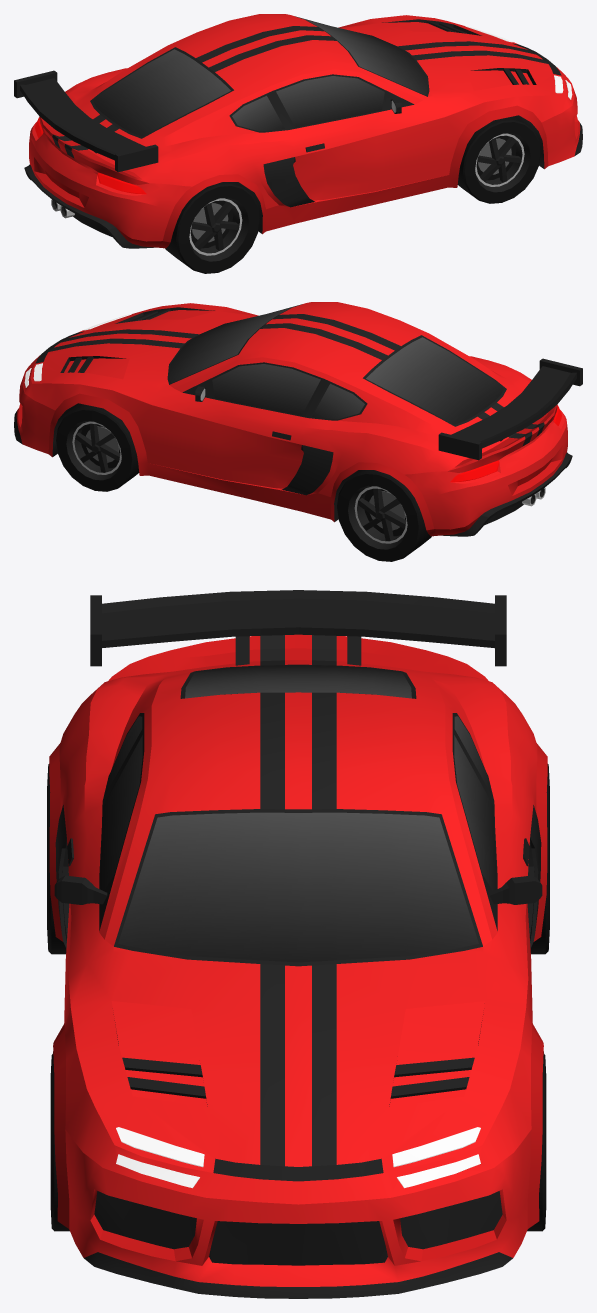
The model's file is Car_182.glb.
3 renders of one model, top to bottom at view 1: azimuth 30°, elevation 25°; view 2: azimuth 150°, elevation 25°; view 3: azimuth 270°, elevation 25°, orthographic. The views are drawn at different scales.
Visible parts, largest first — view 1: Car_182, wheel_3_Car_182_Wheel_2R, wheel_1_Car_182_Wheel_1R; view 2: Car_182, wheel_2_Car_182_Wheel_2L, wheel_0_Car_182_Wheel_1L; view 3: Car_182, wheel_0_Car_182_Wheel_1L, wheel_1_Car_182_Wheel_1R, wheel_3_Car_182_Wheel_2R, wheel_2_Car_182_Wheel_2L.
Part boxes in pixels (x1,y1,x2,y2): Car_182: [14, 14, 582, 248]; wheel_3_Car_182_Wheel_2R: [165, 182, 259, 273]; wheel_1_Car_182_Wheel_1R: [457, 116, 540, 203]; Car_182: [14, 302, 582, 536]; wheel_2_Car_182_Wheel_2L: [337, 470, 431, 561]; wheel_0_Car_182_Wheel_1L: [56, 404, 139, 491]; Car_182: [49, 590, 547, 1298]; wheel_0_Car_182_Wheel_1L: [527, 1053, 546, 1231]; wheel_1_Car_182_Wheel_1R: [50, 1053, 69, 1231]; wheel_3_Car_182_Wheel_2R: [47, 764, 66, 954]; wheel_2_Car_182_Wheel_2L: [530, 764, 549, 954].
Size of the model in its own units: 4.67 by 1.4 by 1.99.
Materials: 2 (2 with a texture image).
